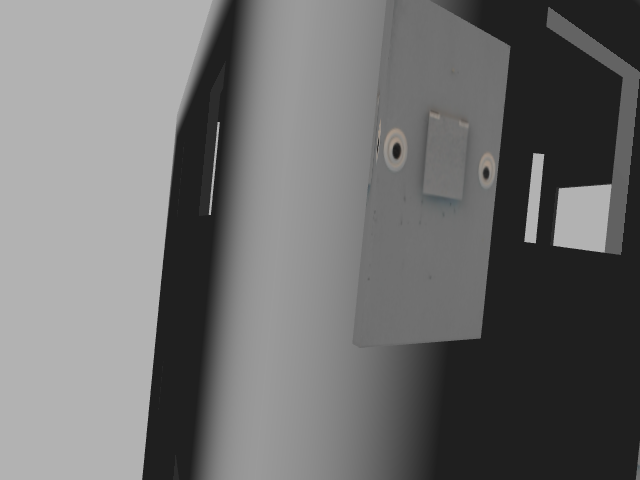facade: (382, 109, 497, 203)
